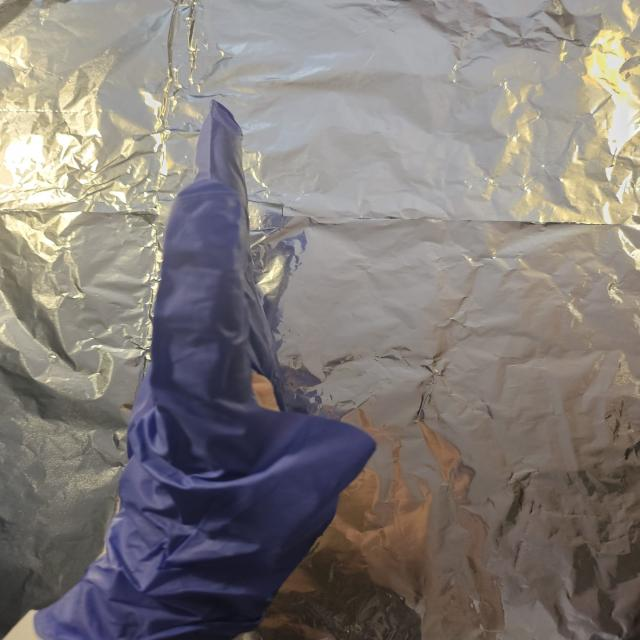gloves_damaged: (32, 97, 379, 640)
